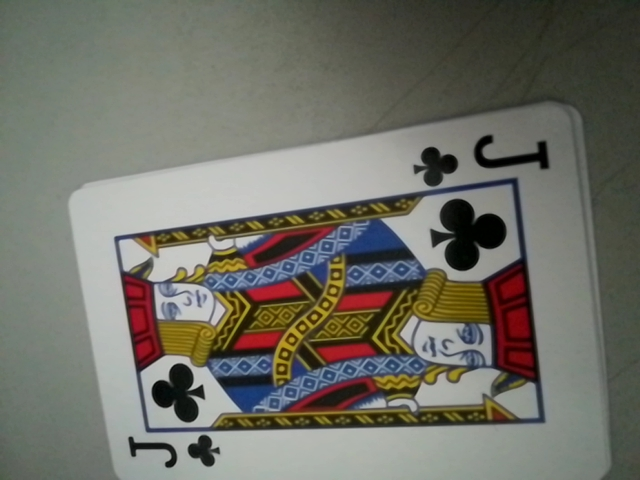mh j: (412, 125, 554, 190), (120, 427, 223, 480)
